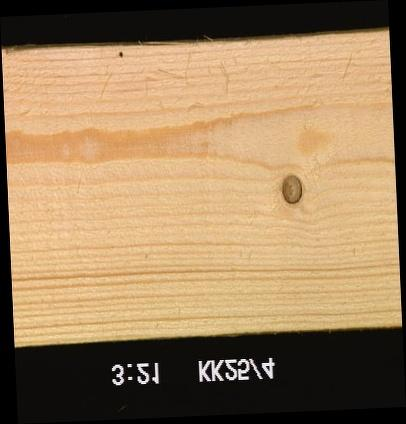dry_knot: (278, 172, 302, 205)
